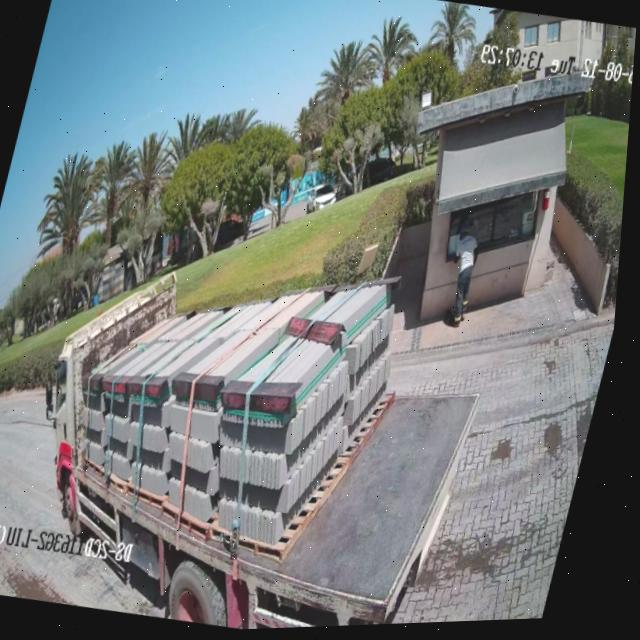bricks: (84, 276, 399, 544)
